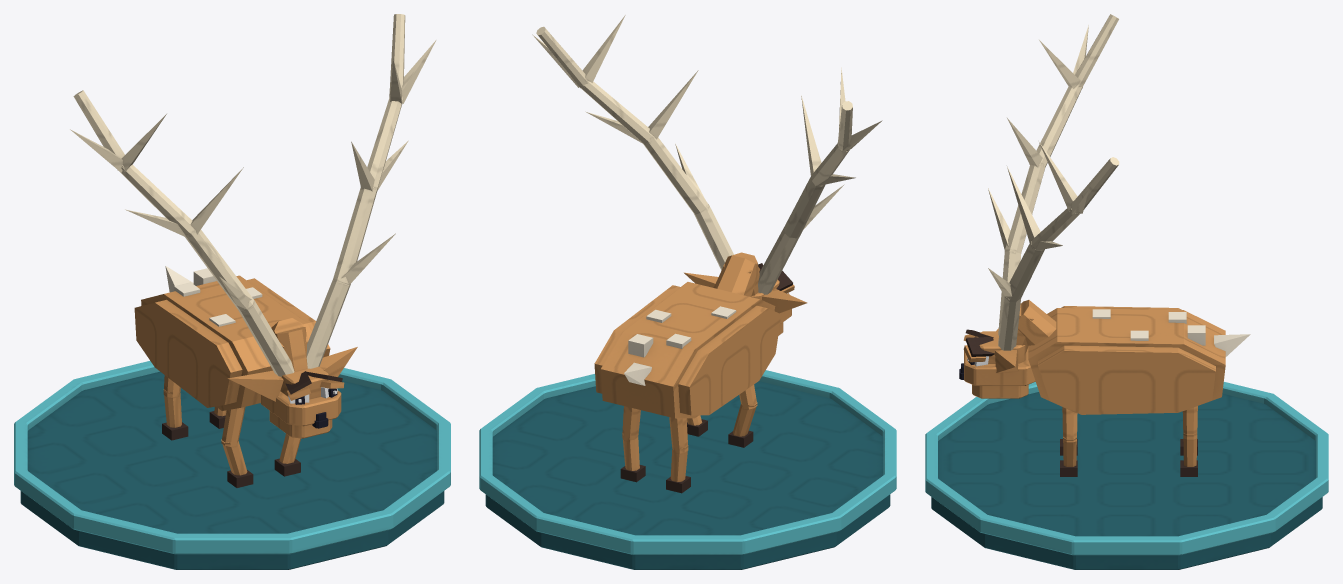
The model's file is AntlerFawn.fbx.
3 renders of one model, left to right at view 1: azimuth 30°, elevation 25°; view 2: azimuth 150°, elevation 25°; view 3: azimuth 270°, elevation 25°, orthographic. The views are drawn at different scales.
Visible parts, largest first — view 1: Art_AntlerFawn_Stand, Art_AntlerFawn_Antlers, Art_AntlerFawn_Body, Art_AntlerFawn_Head, Art_AntlerFawn_LegFR, Art_AntlerFawn_LegBR, Art_AntlerFawn_LegFL; view 2: Art_AntlerFawn_Stand, Art_AntlerFawn_Body, Art_AntlerFawn_Antlers, Art_AntlerFawn_Head, Art_AntlerFawn_LegBR, Art_AntlerFawn_LegBL, Art_AntlerFawn_LegFR; view 3: Art_AntlerFawn_Stand, Art_AntlerFawn_Body, Art_AntlerFawn_Antlers, Art_AntlerFawn_Head, Art_AntlerFawn_LegBL, Art_AntlerFawn_LegFL.
Part boxes in pixels (bbox=[...]): Art_AntlerFawn_Stand: bbox=[14, 361, 450, 569]; Art_AntlerFawn_Antlers: bbox=[70, 14, 436, 376]; Art_AntlerFawn_Body: bbox=[134, 266, 330, 410]; Art_AntlerFawn_Head: bbox=[228, 318, 357, 438]; Art_AntlerFawn_LegFR: bbox=[221, 406, 253, 487]; Art_AntlerFawn_LegBR: bbox=[162, 375, 188, 440]; Art_AntlerFawn_LegFL: bbox=[274, 433, 300, 476]; Art_AntlerFawn_Stand: bbox=[479, 370, 896, 569]; Art_AntlerFawn_Body: bbox=[594, 282, 781, 418]; Art_AntlerFawn_Antlers: bbox=[532, 15, 882, 294]; Art_AntlerFawn_Head: bbox=[684, 252, 807, 335]; Art_AntlerFawn_LegBR: bbox=[666, 417, 690, 493]; Art_AntlerFawn_LegBL: bbox=[620, 406, 645, 482]; Art_AntlerFawn_LegFR: bbox=[728, 384, 757, 447]; Art_AntlerFawn_Stand: bbox=[925, 382, 1328, 569]; Art_AntlerFawn_Body: bbox=[1028, 306, 1250, 414]; Art_AntlerFawn_Antlers: bbox=[988, 14, 1119, 350]; Art_AntlerFawn_Head: bbox=[959, 300, 1056, 398]; Art_AntlerFawn_LegBL: bbox=[1180, 406, 1197, 476]; Art_AntlerFawn_LegFL: bbox=[1060, 407, 1077, 476].
Bounding box in the file's own units: 3.19 × 3.5 × 3.19.
